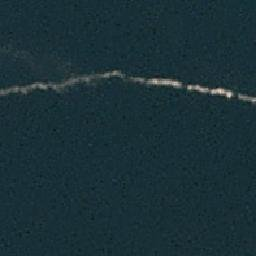debris: (186, 82, 255, 103), (1, 77, 61, 96), (62, 70, 127, 87), (128, 74, 185, 93)
